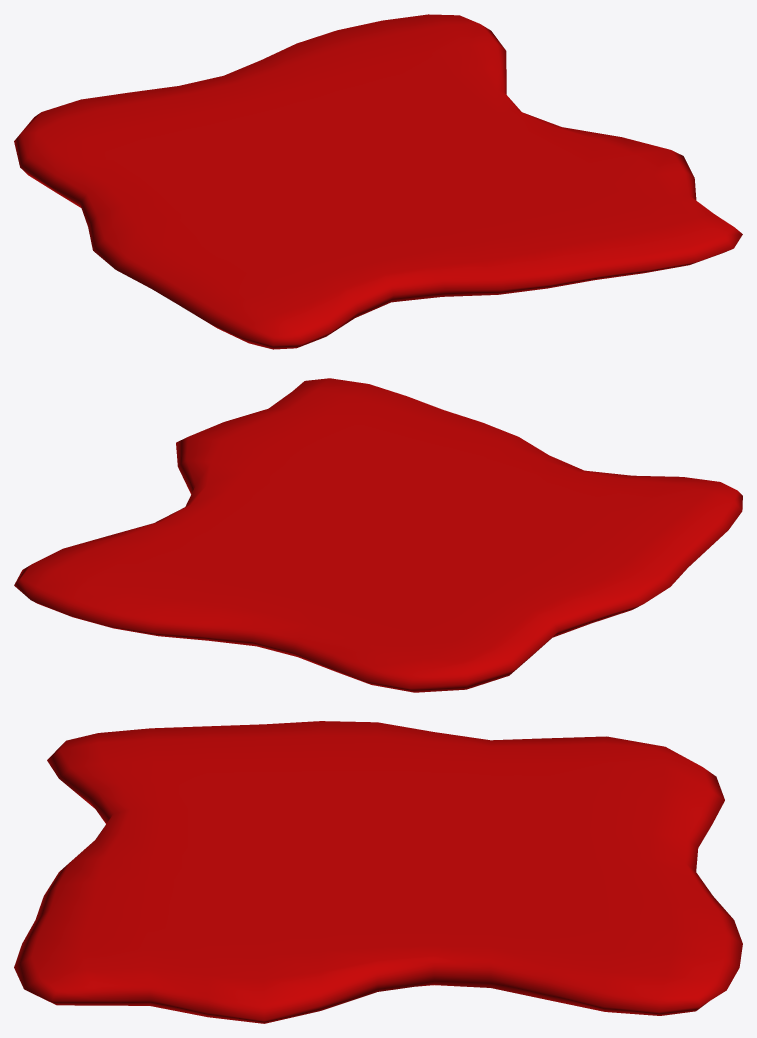
Rendered from dzem.fbx.
The picture shows the model from 3 angles, top to bottom: view 1: azimuth 30°, elevation 25°; view 2: azimuth 150°, elevation 25°; view 3: azimuth 270°, elevation 25°; orthographic projection. The views are drawn at different scales.
Parts seen in each view (by area): view 1: jam; view 2: jam; view 3: jam.
Boxes of the visible parts, x1,y1,x2,y2 form: jam: [14, 14, 742, 349]; jam: [14, 378, 742, 692]; jam: [14, 721, 742, 1023].
Bounding box in the file's own units: 206 × 10 × 215.
